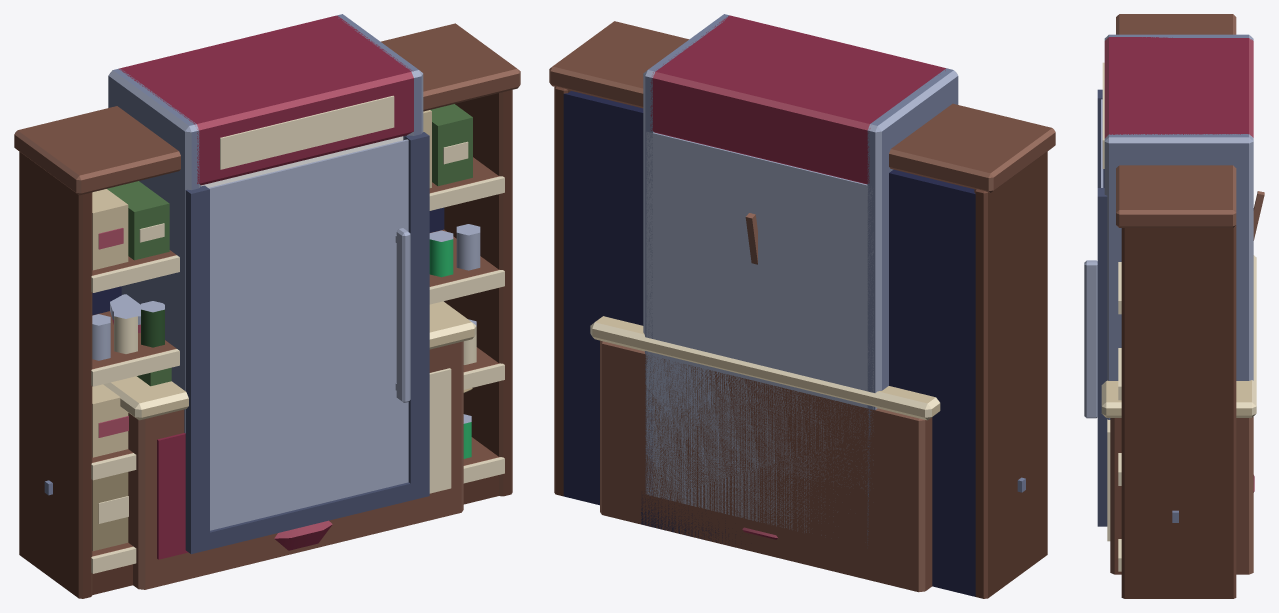
File: Decor_Shop.fbx
3 renders of one model, left to right at view 1: azimuth 30°, elevation 25°; view 2: azimuth 150°, elevation 25°; view 3: azimuth 270°, elevation 25°, orthographic. The views are drawn at different scales.
Visible parts, largest first — view 1: Decor_StockShelf_8, Decor_Fridge_4_Glass, Decor_Fridge_4, Decor_CandyCounter_6, Decor_CatBed, Decor_Fridge_4_Light; view 2: Decor_Fridge_4, Decor_StockShelf_8, Decor_CandyCounter_6; view 3: Decor_StockShelf_8, Decor_Fridge_4, Decor_CandyCounter_6, Decor_MopBucket.
Boxes of the visible parts, x1,y1,x2,y2 form: Decor_StockShelf_8: [14, 23, 520, 598]; Decor_Fridge_4_Glass: [208, 139, 408, 530]; Decor_Fridge_4: [108, 14, 429, 554]; Decor_CandyCounter_6: [103, 294, 476, 589]; Decor_CatBed: [274, 520, 332, 550]; Decor_Fridge_4_Light: [201, 136, 403, 187]; Decor_Fridge_4: [641, 14, 958, 543]; Decor_StockShelf_8: [549, 21, 1055, 598]; Decor_CandyCounter_6: [590, 316, 940, 592]; Decor_StockShelf_8: [1116, 14, 1236, 598]; Decor_Fridge_4: [1084, 34, 1253, 526]; Decor_CandyCounter_6: [1101, 255, 1256, 574]; Decor_MopBucket: [1253, 191, 1264, 240].
Bounding box in the file's own units: 8.2 × 8 × 3.14.
1 material, 1 textured.
